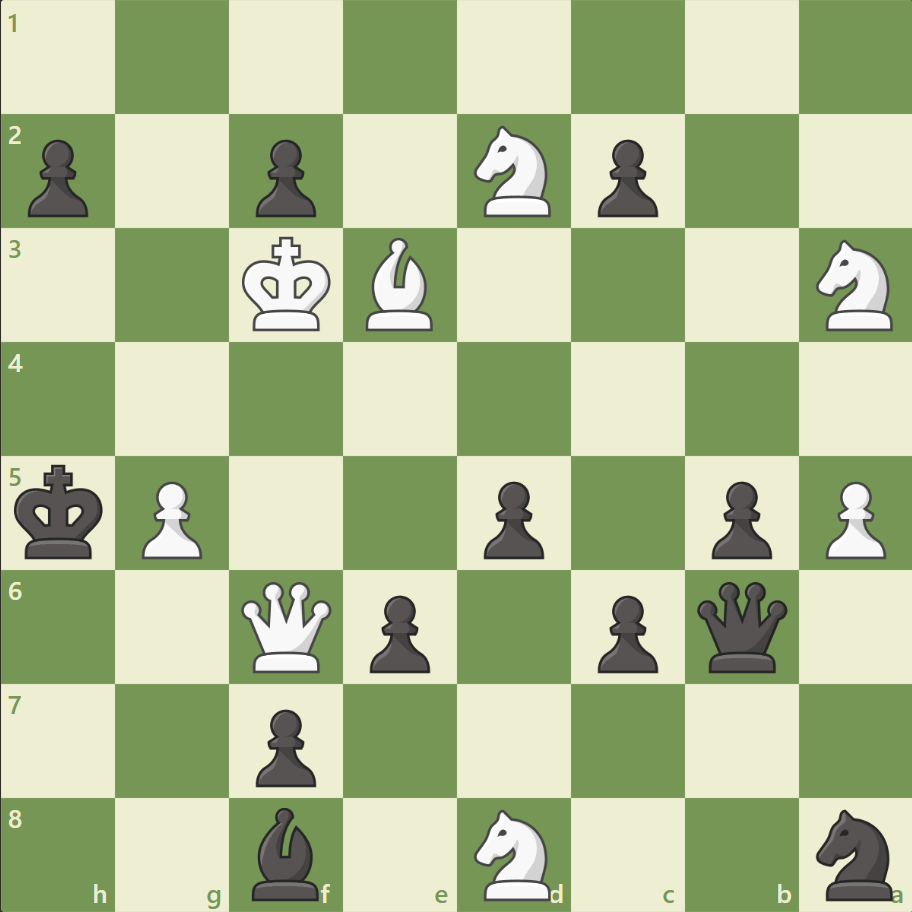B: (358, 233, 442, 336)
K: (238, 231, 338, 339)
N: (806, 234, 903, 337), (465, 802, 562, 904), (465, 121, 562, 223)
P: (133, 473, 208, 564), (815, 473, 889, 564)
Q: (237, 576, 336, 676)
b: (244, 801, 328, 904)
k: (11, 458, 111, 566)
n: (806, 802, 903, 904)
p: (247, 700, 322, 791), (701, 473, 776, 564), (474, 473, 549, 564), (247, 132, 322, 223), (20, 132, 95, 223), (588, 586, 662, 677), (361, 586, 435, 677), (588, 132, 662, 223)
q: (691, 576, 790, 676)
